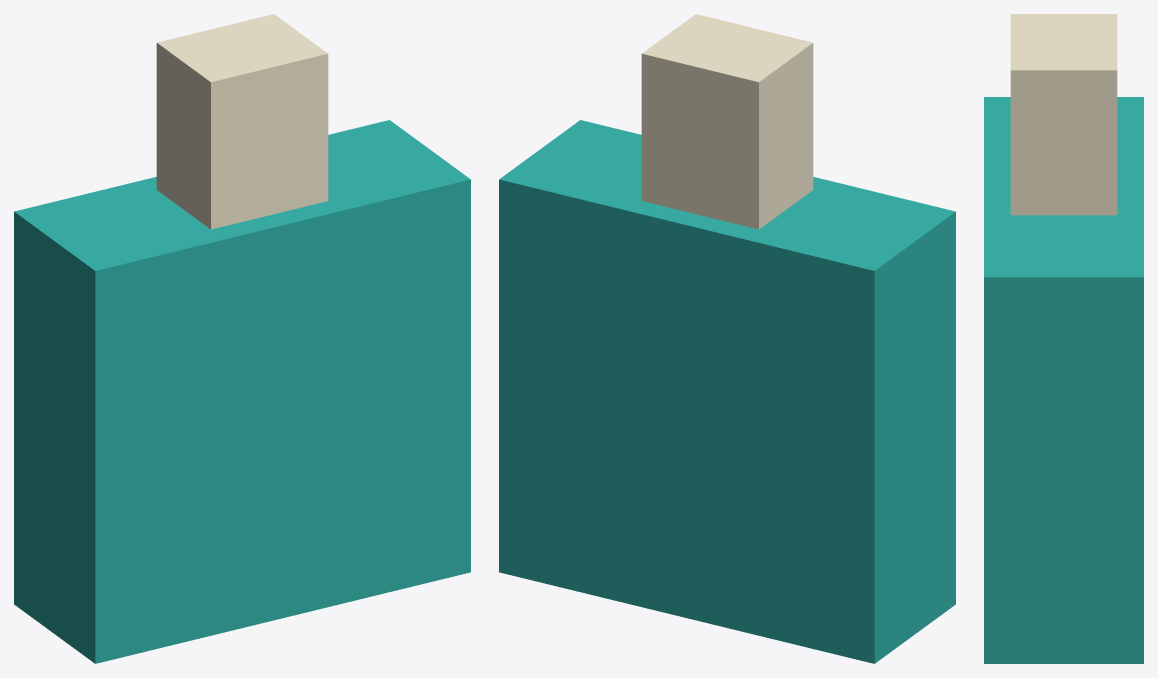
Rendered from upgrade.gltf.
The picture shows the model from 3 angles, left to right: view 1: azimuth 30°, elevation 25°; view 2: azimuth 150°, elevation 25°; view 3: azimuth 270°, elevation 25°; orthographic projection.
Bounding box in the file's own units: 0.8 × 1.1 × 0.3.
